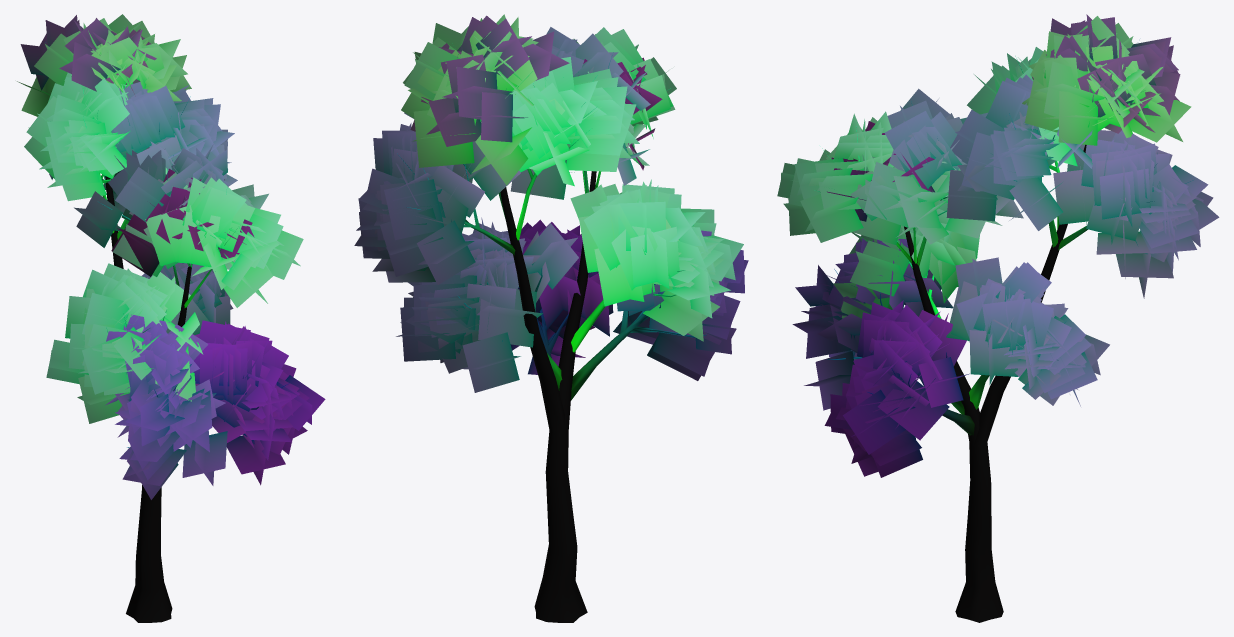
Rendered from foliage_tree_large_006.fbx.
The picture shows the model from 3 angles, left to right: view 1: azimuth 30°, elevation 25°; view 2: azimuth 150°, elevation 25°; view 3: azimuth 270°, elevation 25°; orthographic projection. The views are drawn at different scales.
Visible parts, largest first — view 1: tree3; view 2: tree3; view 3: tree3.
Part boxes in pixels (box(x1,y1,x2,y2)): tree3: box(17, 14, 325, 622); tree3: box(354, 14, 748, 622); tree3: box(777, 14, 1219, 622).
Size of the model in its own units: 596 by 1295 by 871.
